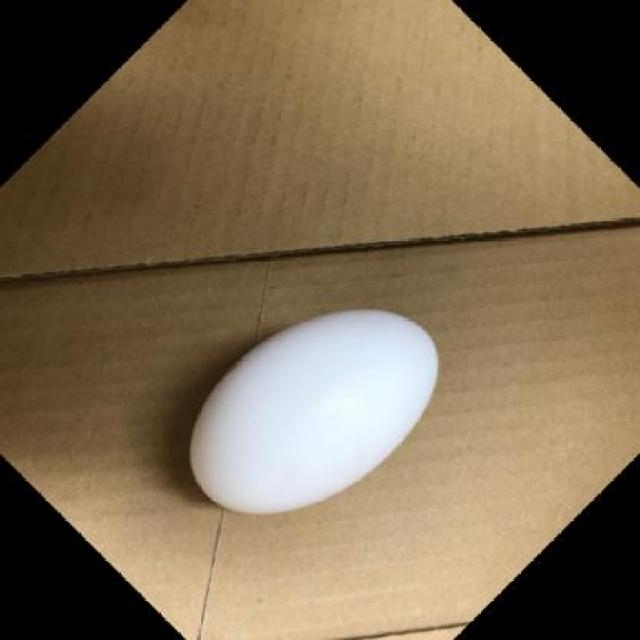egg: (182, 309, 444, 523)
